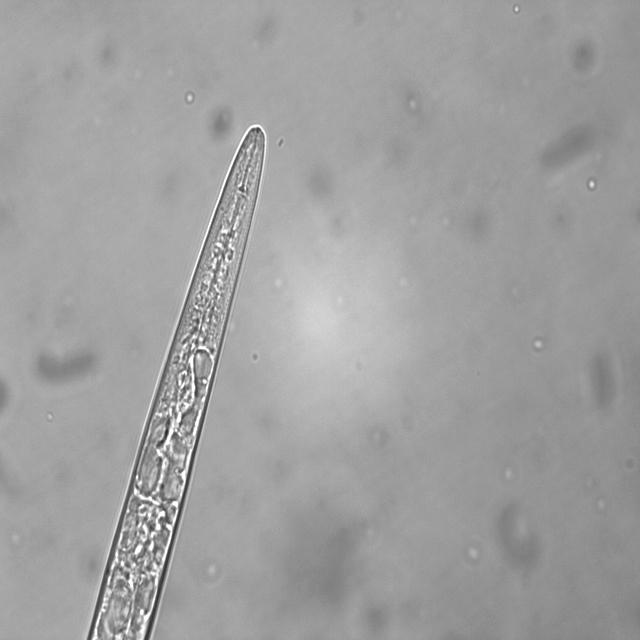Meloidogyne: (61, 120, 274, 640)
